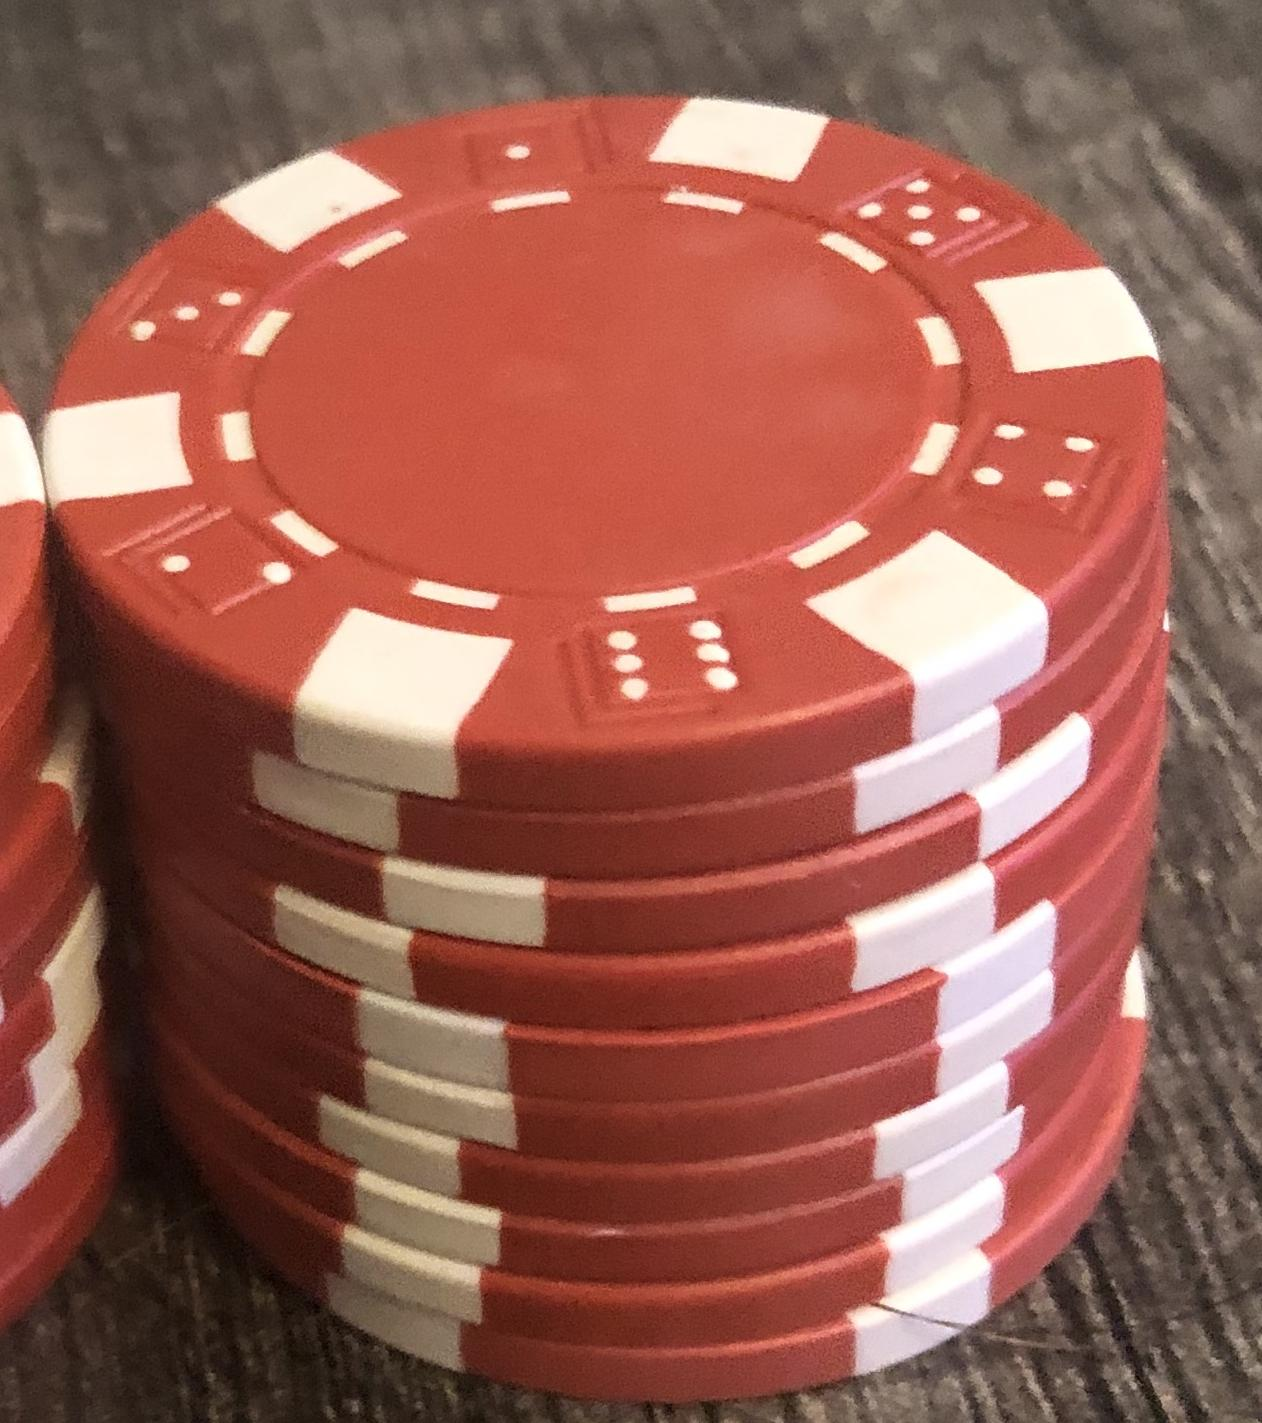Chip: (1, 1, 1262, 1423)
